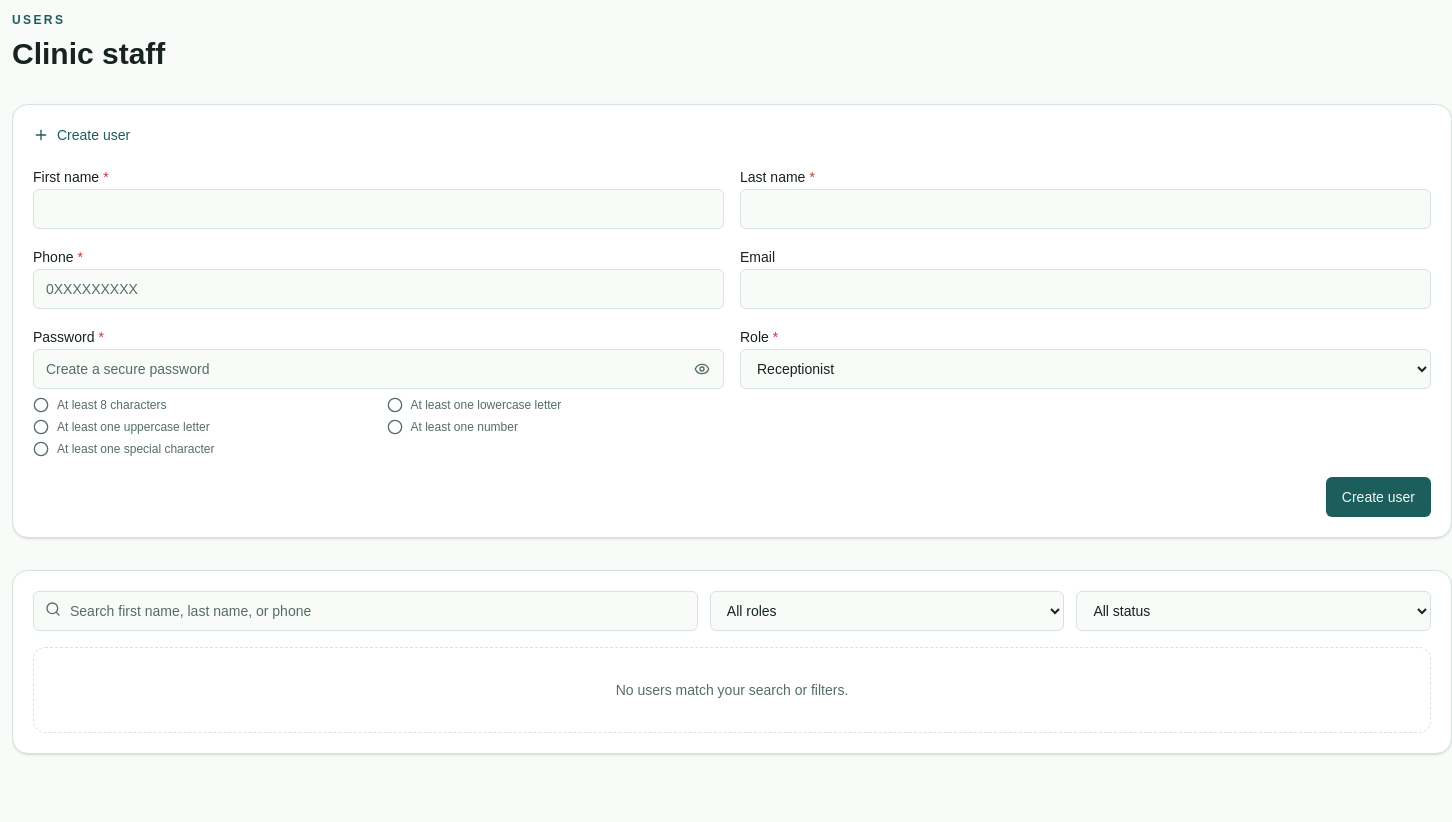
Test: clinic staff form › shows backend password validation errors beside the create password field
The image size is (1452, 822).
Expected: the text "No users match your search or filters." is shown, [33,647,1431,733]
In the field labelled "First name*": (378, 209) [33,189,724,229], type "Clinic"
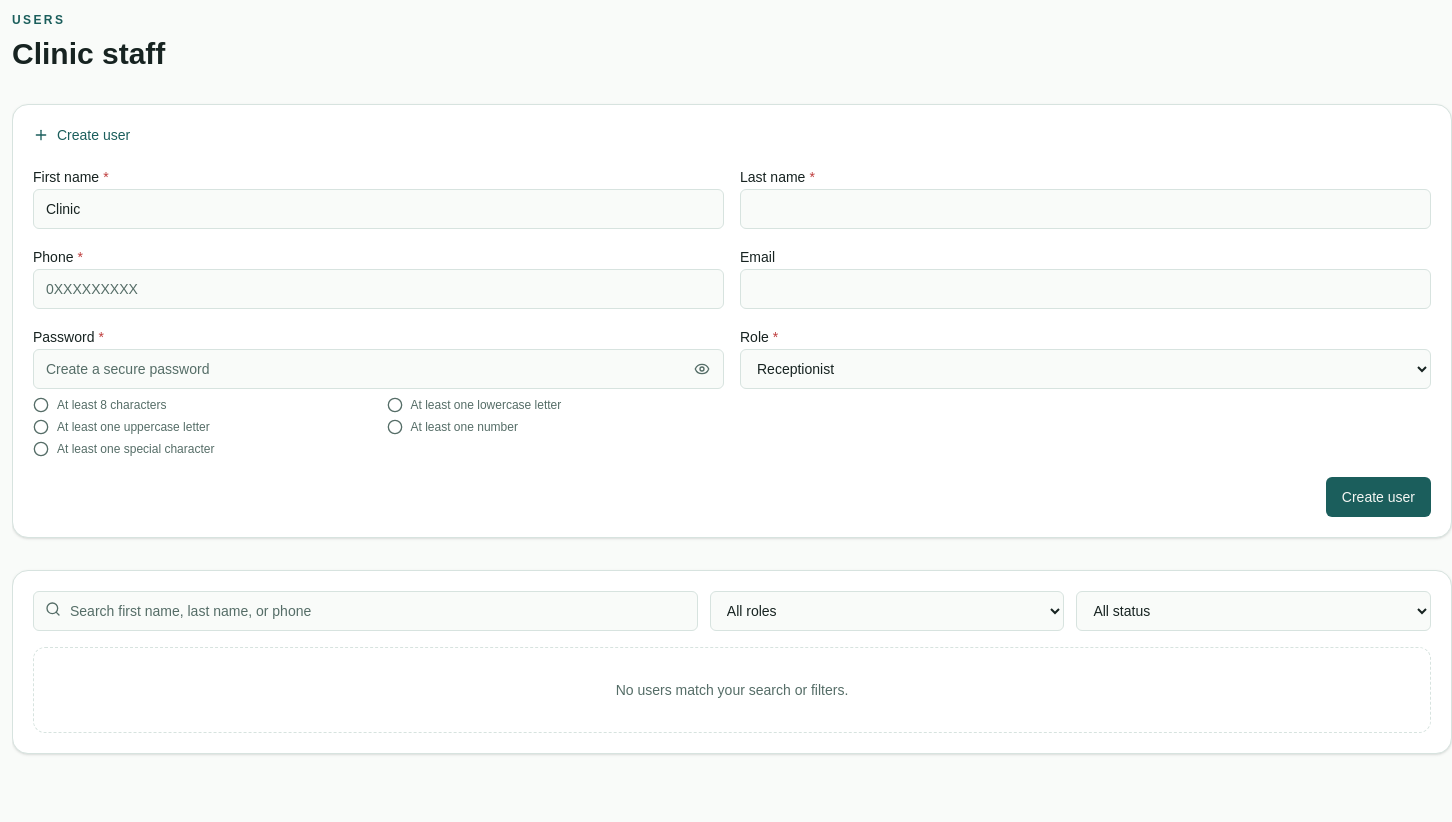
In the field labelled "Last name*": (1086, 209) [740,189,1431,229], type "Staff"
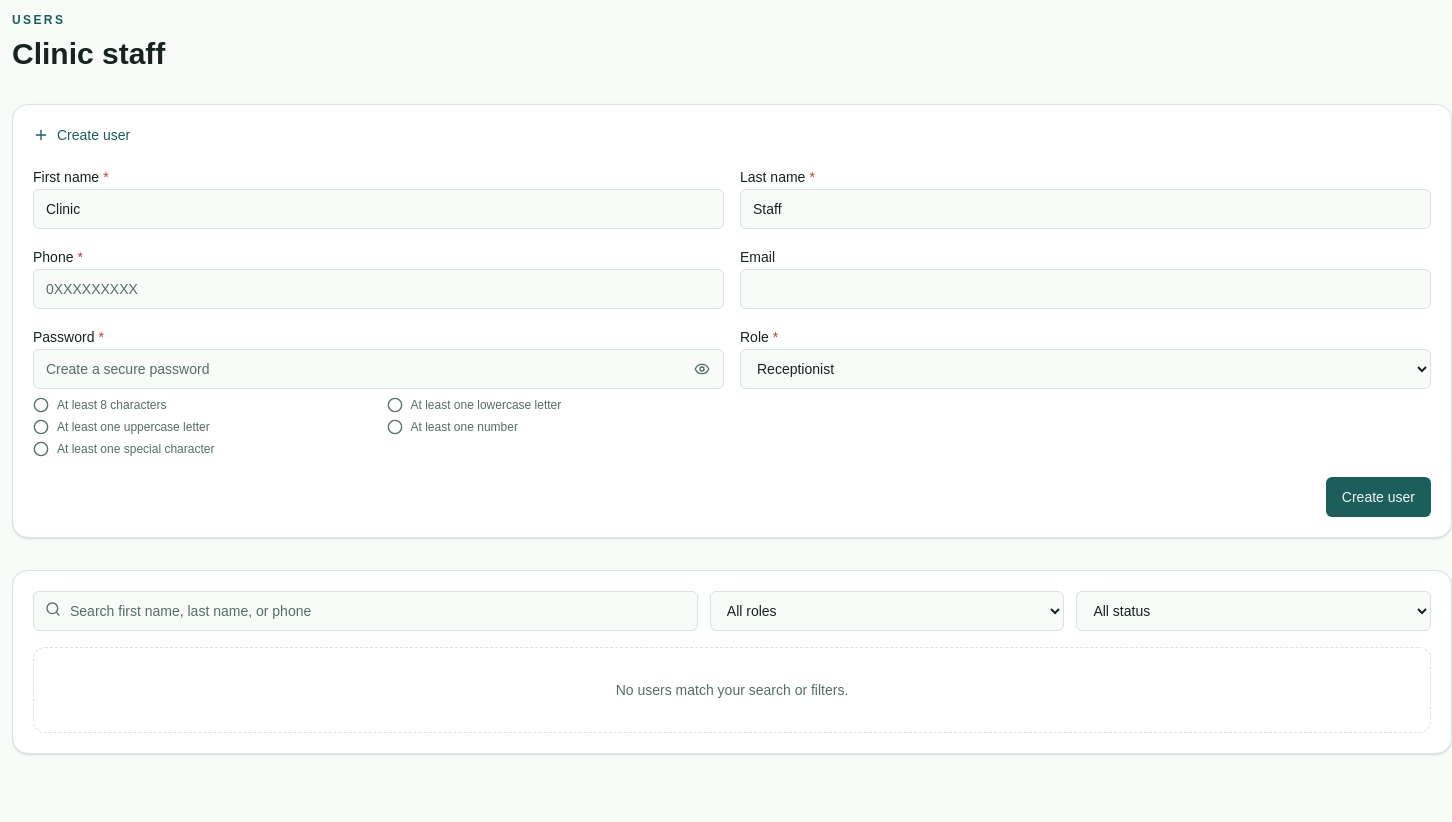
In the field labelled "Phone*": (378, 289) [33,269,724,309], type "0241234567"
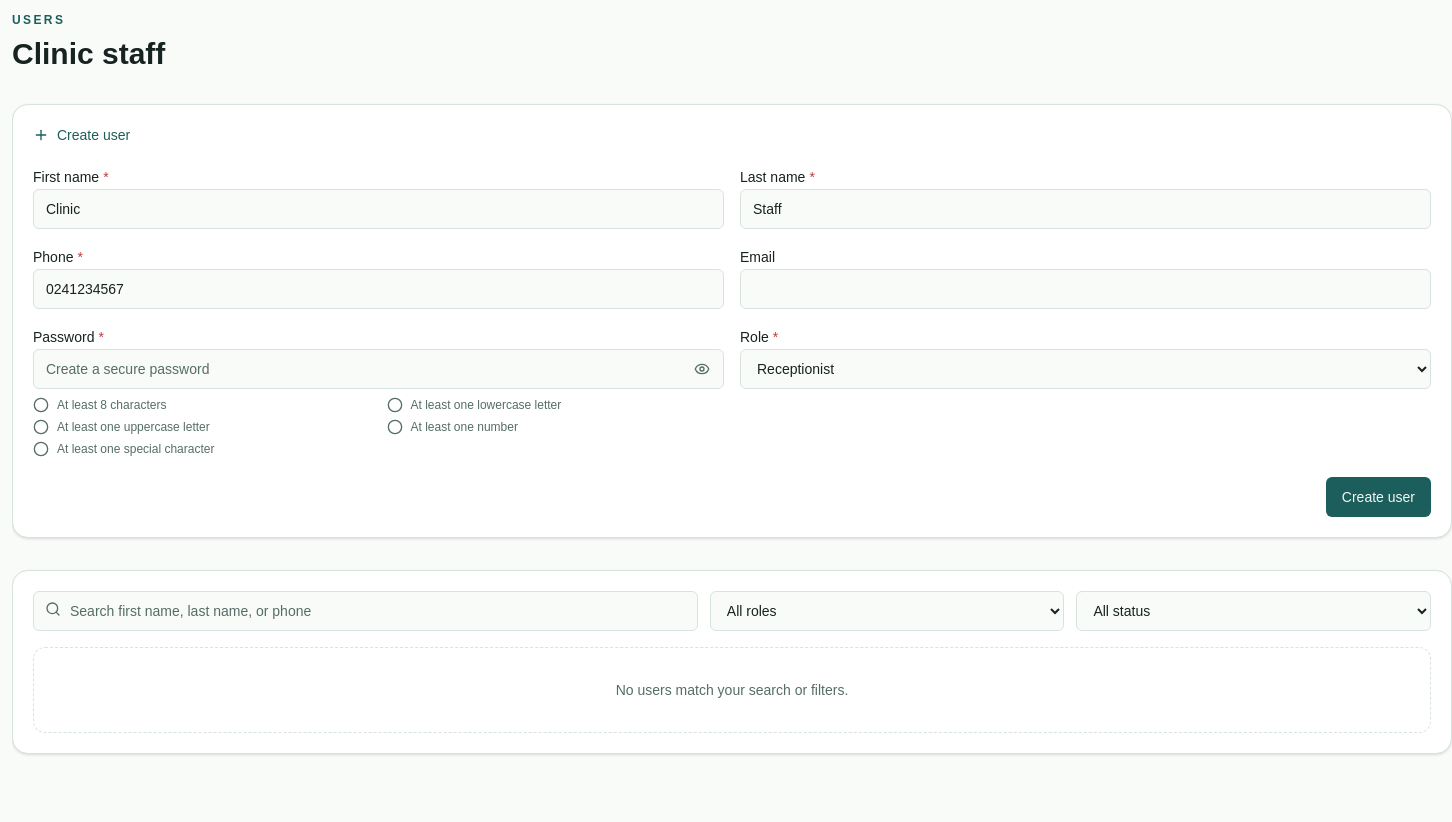
In the password field labelled "Password*": (378, 369) [33,349,724,389], type "StrongPass1!"
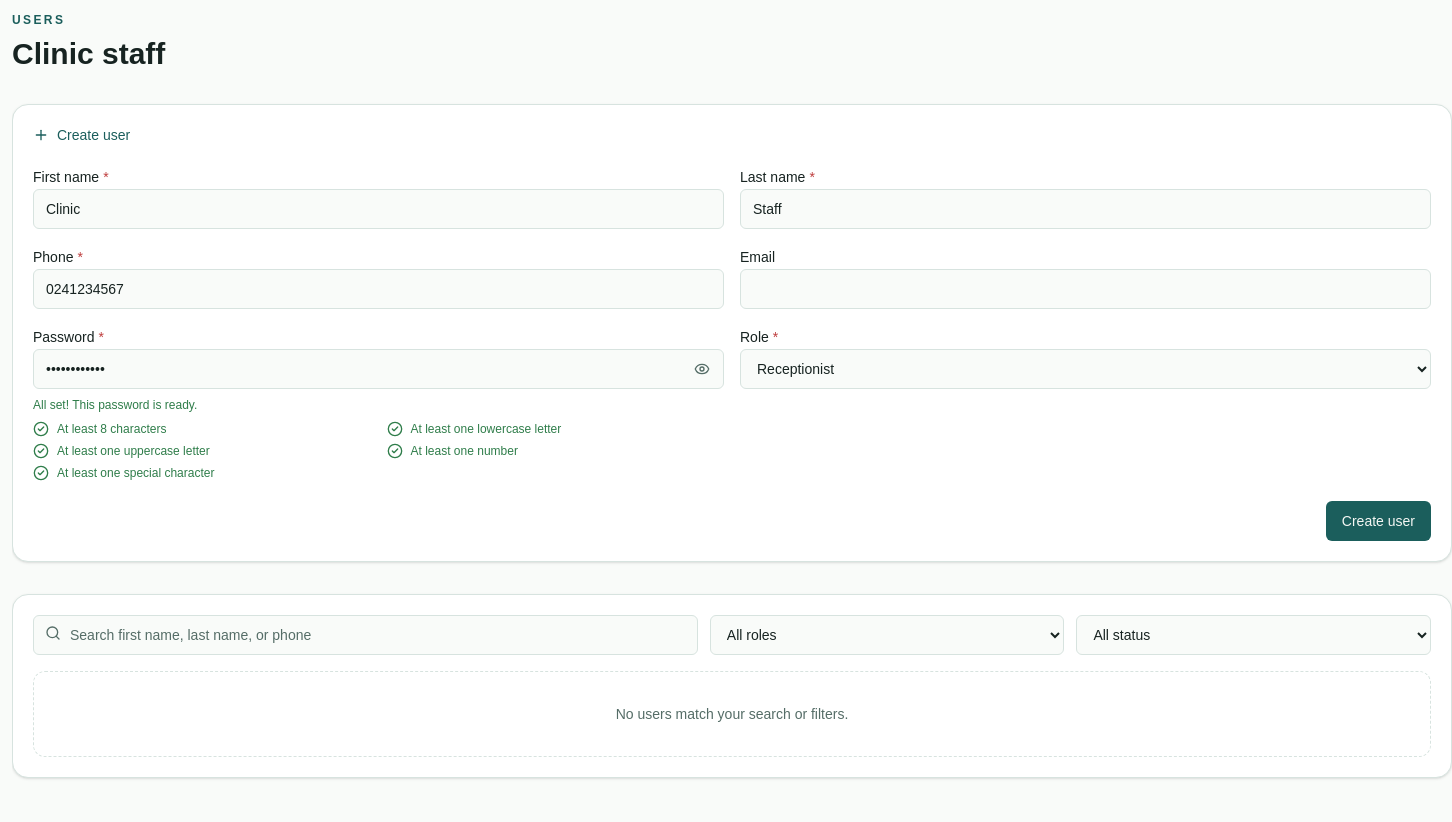
Click the button "Create user": (1378, 521) [1326,501,1431,541]
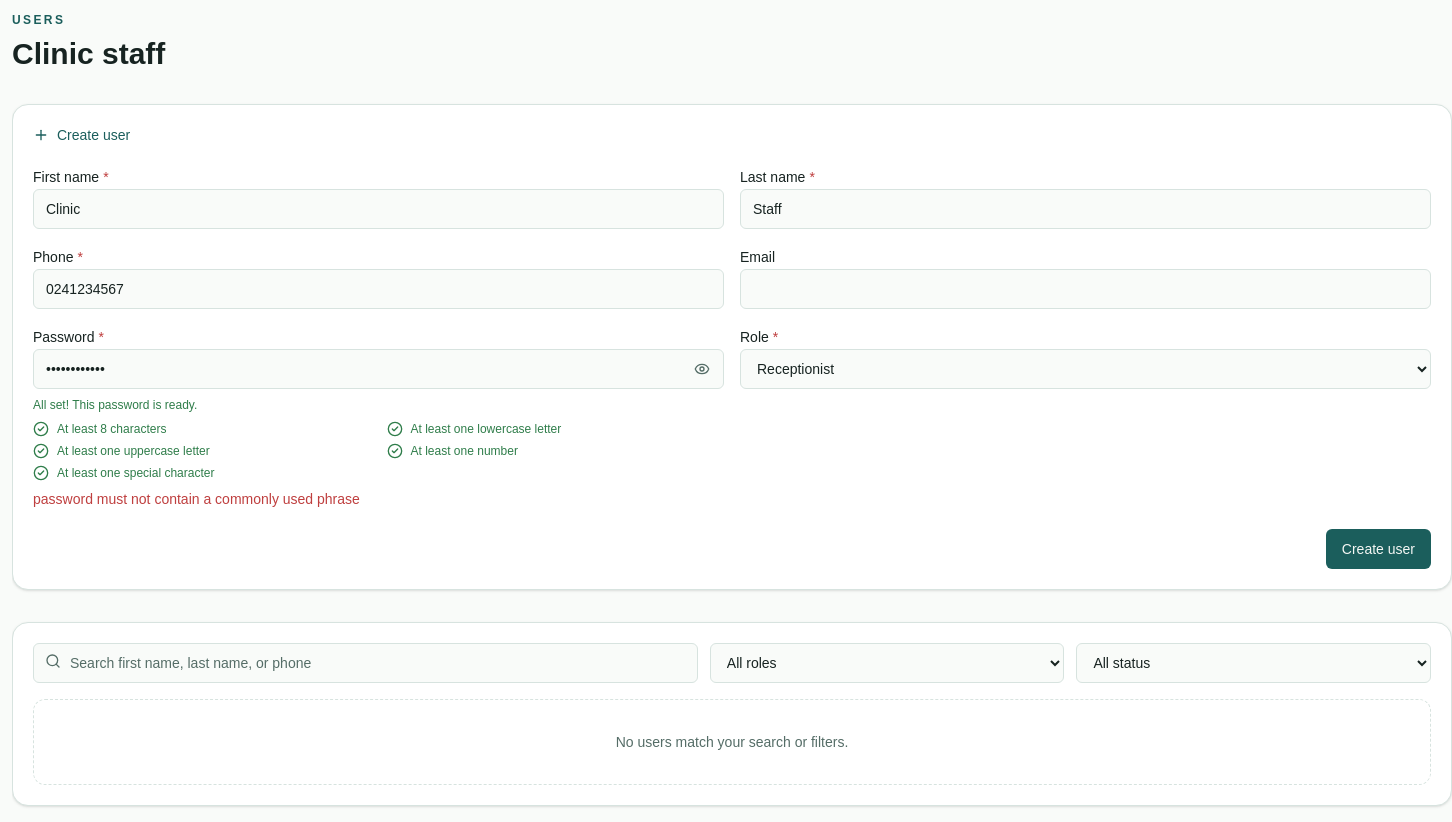
Now the text "password must not contain a commonly used phrase" is shown, box [33,491,360,507]
